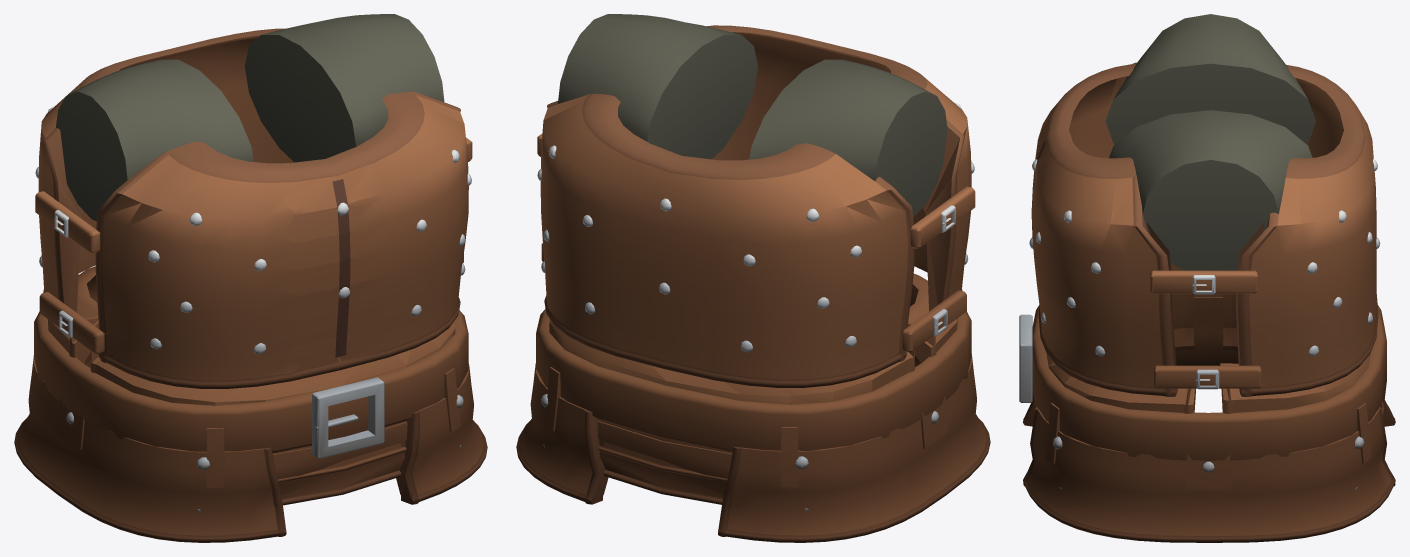
Rendered from studded_leather.glb.
3 views of the same model, side by side, from view 1: azimuth 30°, elevation 25°; view 2: azimuth 150°, elevation 25°; view 3: azimuth 270°, elevation 25° (orthographic). The views are drawn at different scales.
Visible parts, largest first — view 1: Item; view 2: Item; view 3: Item.
Boxes of the visible parts, bbox=[...] form: Item: bbox=[14, 14, 487, 542]; Item: bbox=[516, 14, 990, 542]; Item: bbox=[1019, 14, 1395, 542].
Bounding box in the file's own units: 0.8637 × 0.842 × 0.7683.
3 materials, 3 textured.
